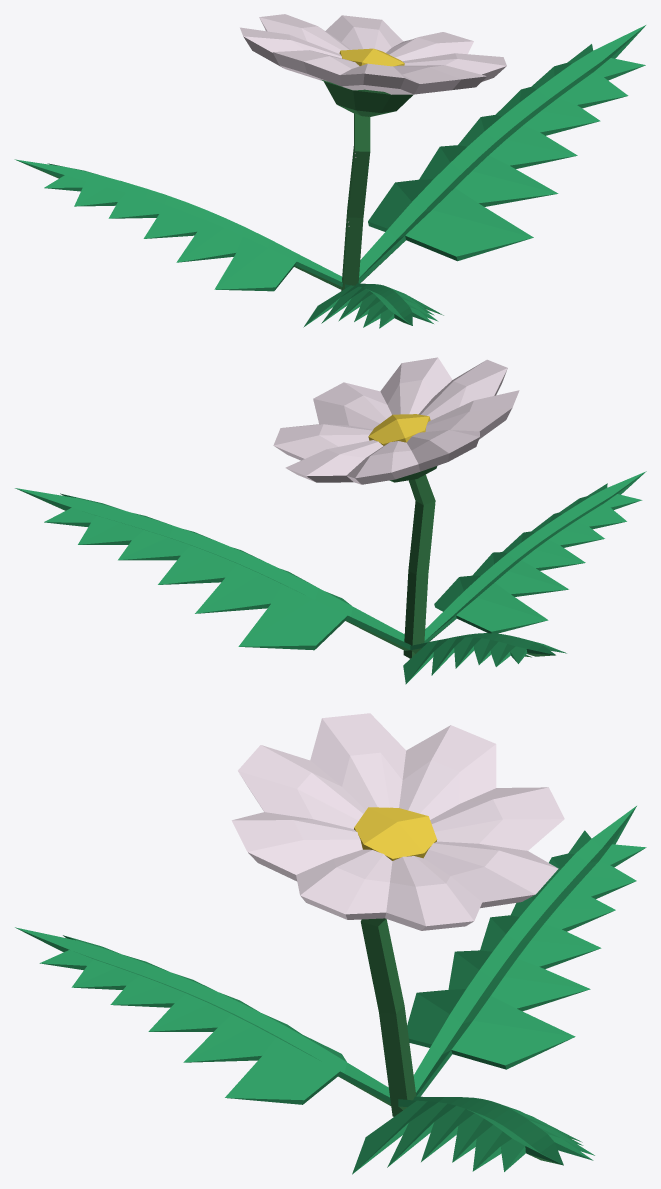
The model's file is 3D_Model_Daisy_LP_v1.fbx.
The picture shows the model from 3 angles, top to bottom: view 1: azimuth 30°, elevation 25°; view 2: azimuth 150°, elevation 25°; view 3: azimuth 270°, elevation 25°; orthographic projection. The views are drawn at different scales.
Parts seen in each view (by area): view 1: daisy_01; view 2: daisy_01; view 3: daisy_01.
Part boxes in pixels (box(x1,y1,x2,y2)): daisy_01: box(14, 14, 645, 328); daisy_01: box(15, 357, 646, 684); daisy_01: box(15, 713, 646, 1174).
Size of the model in its own units: 252 by 110 by 181.
